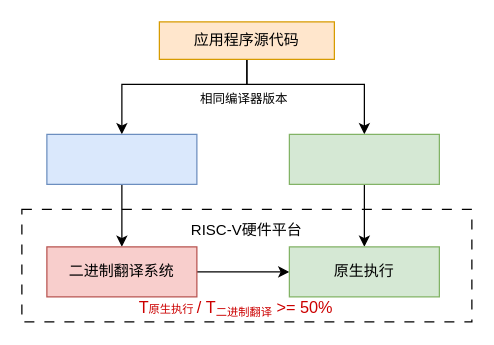
Image size: 494x345. Some labels were removed from this diagram. Each missing label, with the centre of its shape:
"RISC-V二进制程序" belongs at point (363, 158).
"X86二进制程序" belongs at point (121, 158).
